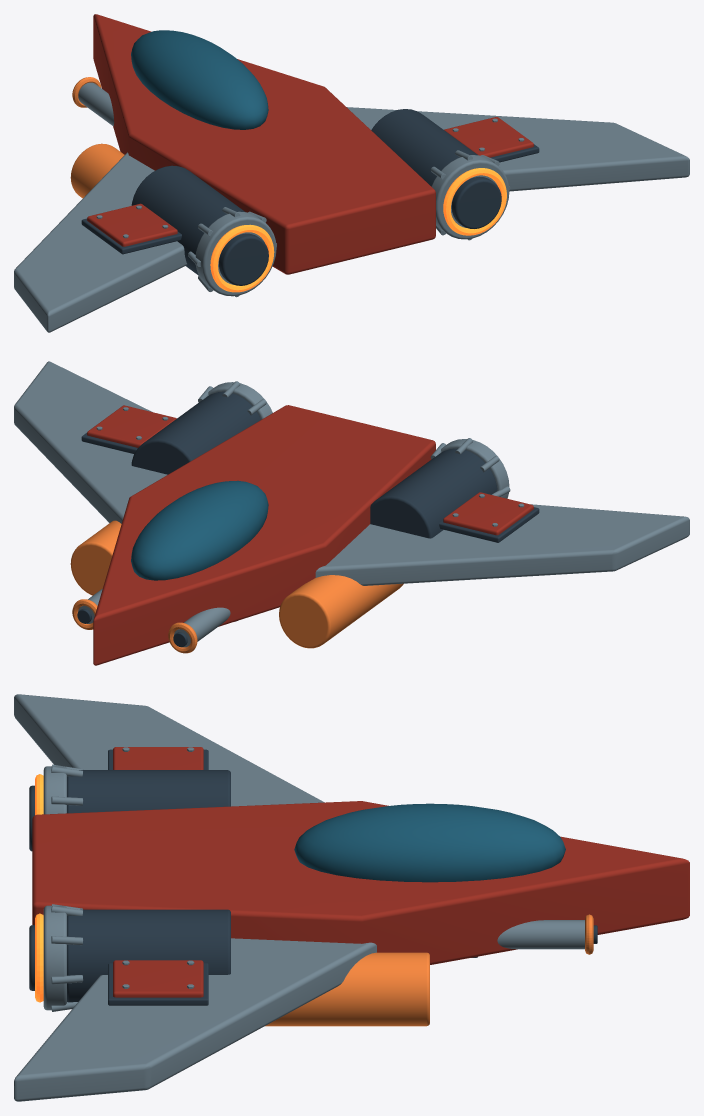
File: DiveBomber.fbx
3 views of the same model, one above another, from view 1: azimuth 30°, elevation 25°; view 2: azimuth 150°, elevation 25°; view 3: azimuth 270°, elevation 25° (orthographic). The views are drawn at different scales.
Parts seen in each view (by area): view 1: Arrowhead armored fuselage, Swept attack wing, Swept attack wing.001, Armored cockpit, Engine pressure vessel, Engine pressure vessel.001, Service panel, Service panel.001, Exhaust rim, Dark exhaust throat, Dark exhaust throat.001, Exhaust rim.001 (+5 smaller); view 2: Arrowhead armored fuselage, Swept attack wing, Swept attack wing.001, Armored cockpit, Engine pressure vessel, Engine pressure vessel.001, External bomb, Service panel, External bomb.001, Service panel.001, Gun barrel, Exhaust rim (+3 smaller); view 3: Arrowhead armored fuselage, Swept attack wing.001, Armored cockpit, Swept attack wing, Engine pressure vessel.001, External bomb.001, Engine pressure vessel, Service panel.001, Gun barrel.001, Exhaust rim.001, Service panel, Recessed armor seam.001 (+2 smaller).
Boxes of the visible parts, x1,y1,x2,y2 form: Arrowhead armored fuselage: (93, 14, 435, 274); Swept attack wing: (14, 152, 187, 332); Swept attack wing.001: (346, 107, 689, 191); Armored cockpit: (131, 30, 268, 129); Engine pressure vessel: (131, 165, 244, 275); Engine pressure vessel.001: (371, 109, 477, 186); Service panel: (87, 203, 177, 246); Service panel.001: (444, 117, 533, 157); Exhaust rim: (195, 211, 276, 296); Dark exhaust throat: (219, 233, 268, 285); Dark exhaust throat.001: (451, 176, 501, 228); Exhaust rim.001: (431, 155, 509, 239); Arrowhead armored fuselage: (93, 405, 435, 665); Swept attack wing: (315, 504, 689, 585); Swept attack wing.001: (14, 361, 167, 523); Armored cockpit: (131, 480, 268, 580); Engine pressure vessel: (370, 448, 497, 538); Engine pressure vessel.001: (131, 391, 260, 474); External bomb: (279, 575, 403, 648); Service panel: (443, 492, 533, 535); External bomb.001: (70, 520, 121, 595); Service panel.001: (87, 405, 176, 447); Gun barrel: (174, 607, 230, 647); Exhaust rim: (441, 439, 509, 498); Arrowhead armored fuselage: (32, 801, 689, 964); Swept attack wing.001: (14, 938, 376, 1101); Armored cockpit: (294, 803, 565, 882); Swept attack wing: (14, 694, 324, 806); Engine pressure vessel.001: (67, 909, 230, 1002); External bomb.001: (265, 952, 429, 1026); Engine pressure vessel: (67, 770, 230, 813); Service panel.001: (113, 960, 203, 997); Gun barrel.001: (497, 920, 584, 949); Exhaust rim.001: (43, 905, 66, 1010); Service panel: (113, 747, 203, 769); Recessed armor seam.001: (108, 963, 208, 1005).
Bounding box in the file's own units: 469 × 85 × 348.
